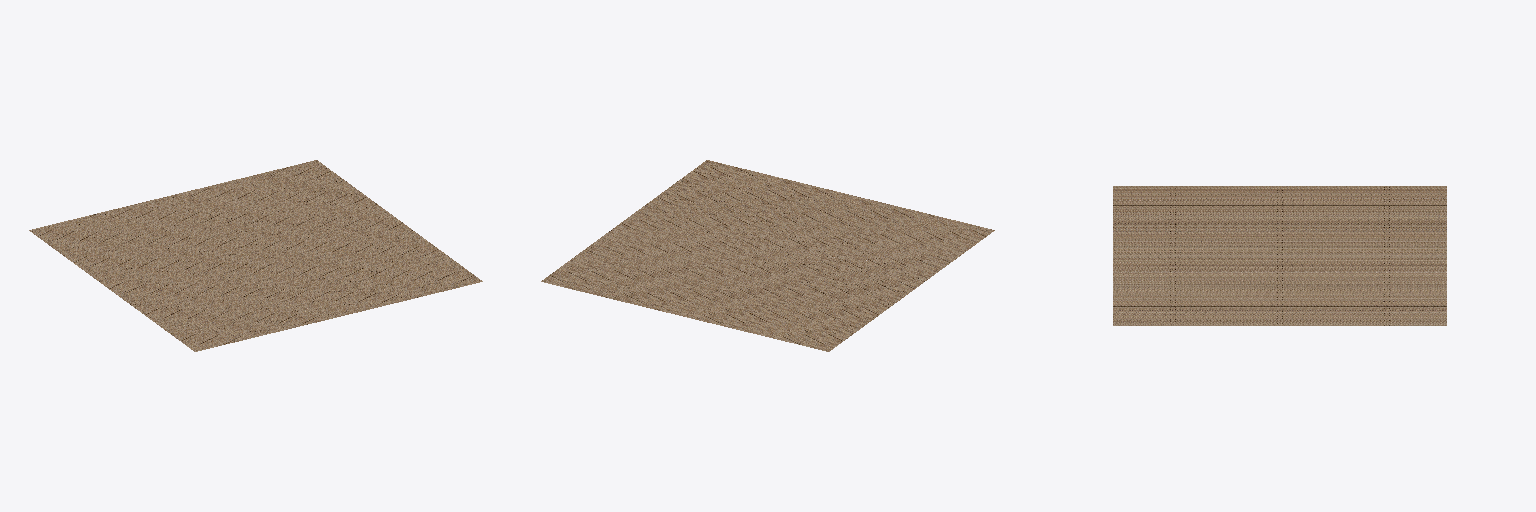
3 views of the same model, side by side, from view 1: azimuth 30°, elevation 25°; view 2: azimuth 150°, elevation 25°; view 3: azimuth 270°, elevation 25° (orthographic).
Parts seen in each view (by area): view 1: pPlane1; view 2: pPlane1; view 3: pPlane1.
Part boxes in pixels (bbox=[...]): pPlane1: bbox=[29, 160, 482, 351]; pPlane1: bbox=[541, 160, 994, 351]; pPlane1: bbox=[1113, 186, 1446, 325].
Size of the model in its own units: 200 by 0 by 200.
1 materials, 1 textured.